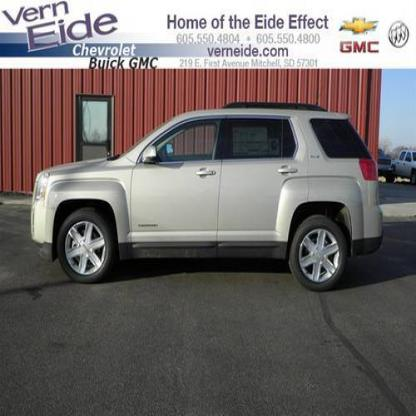Vehicle: (1, 1, 415, 415)
